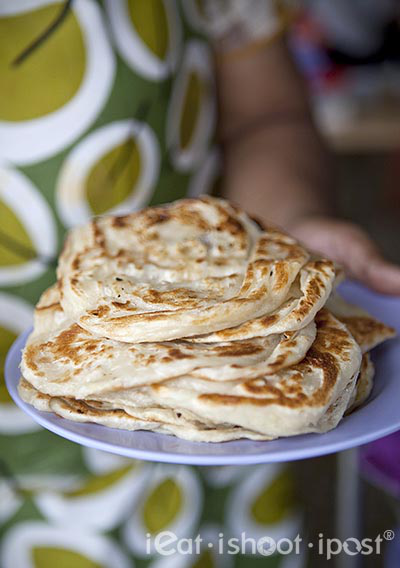Prata: (68, 303, 399, 447), (60, 193, 312, 346), (18, 275, 306, 377)
